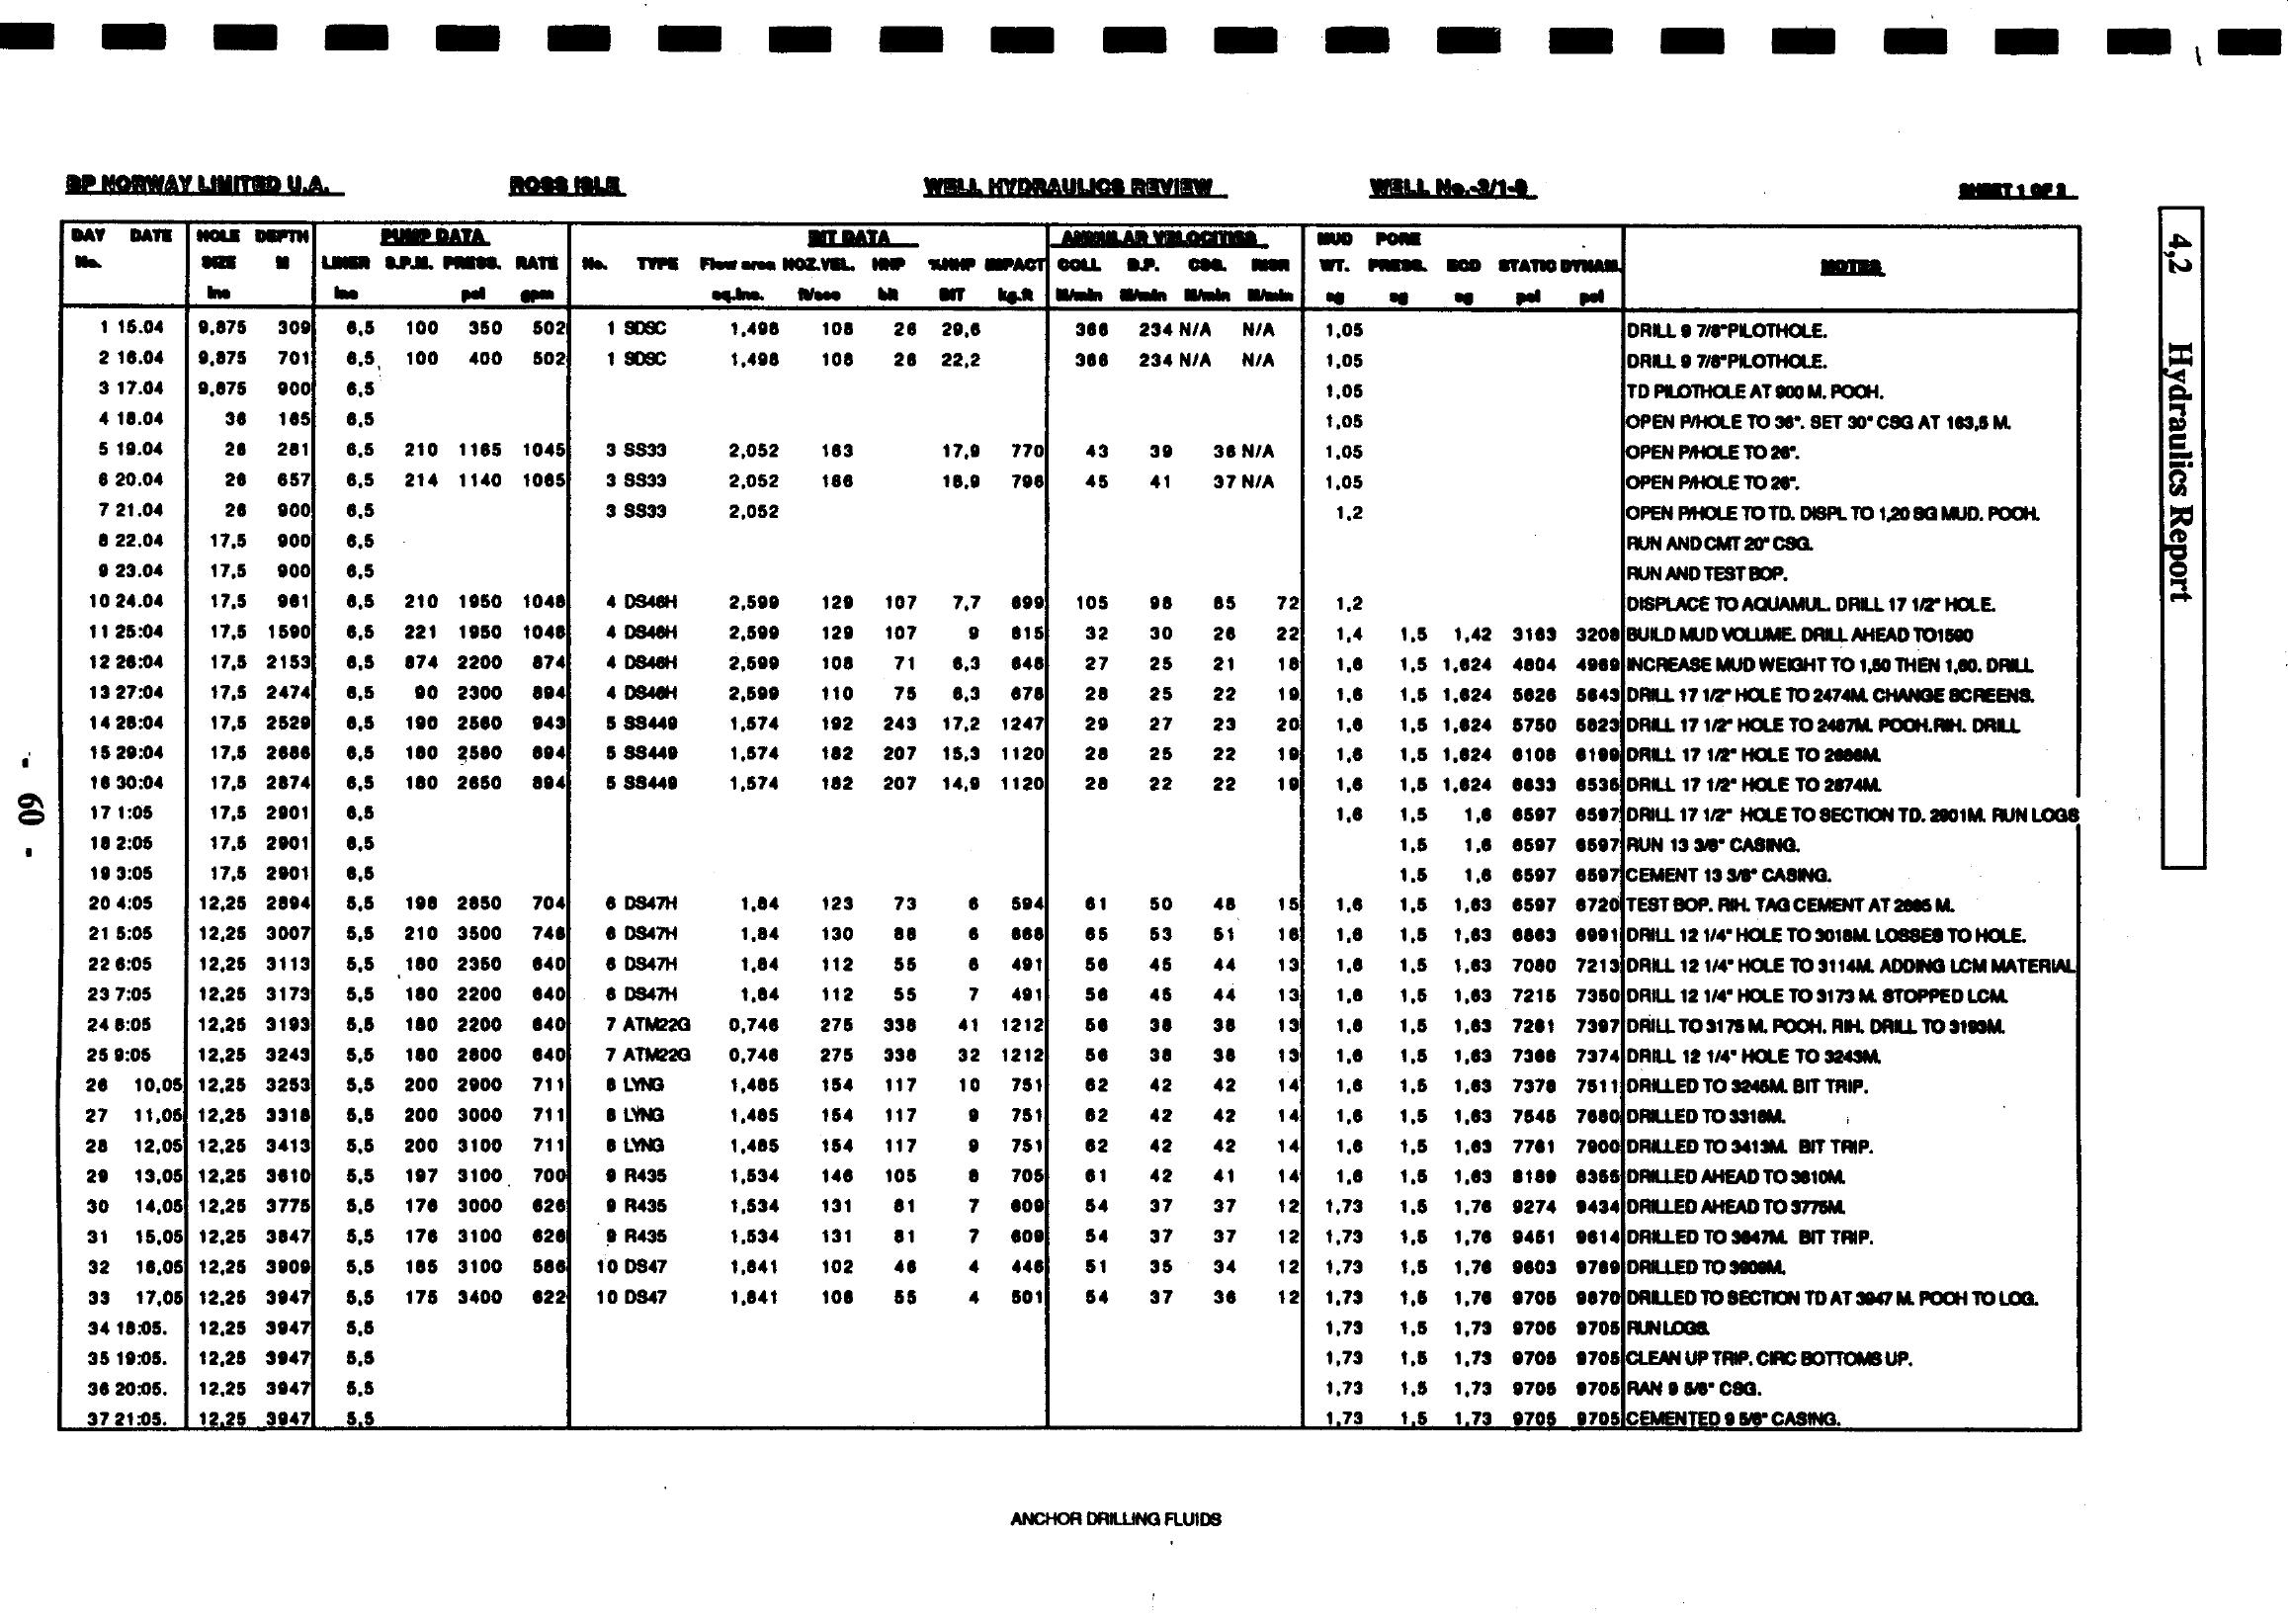table: (51, 162, 2239, 1547)
